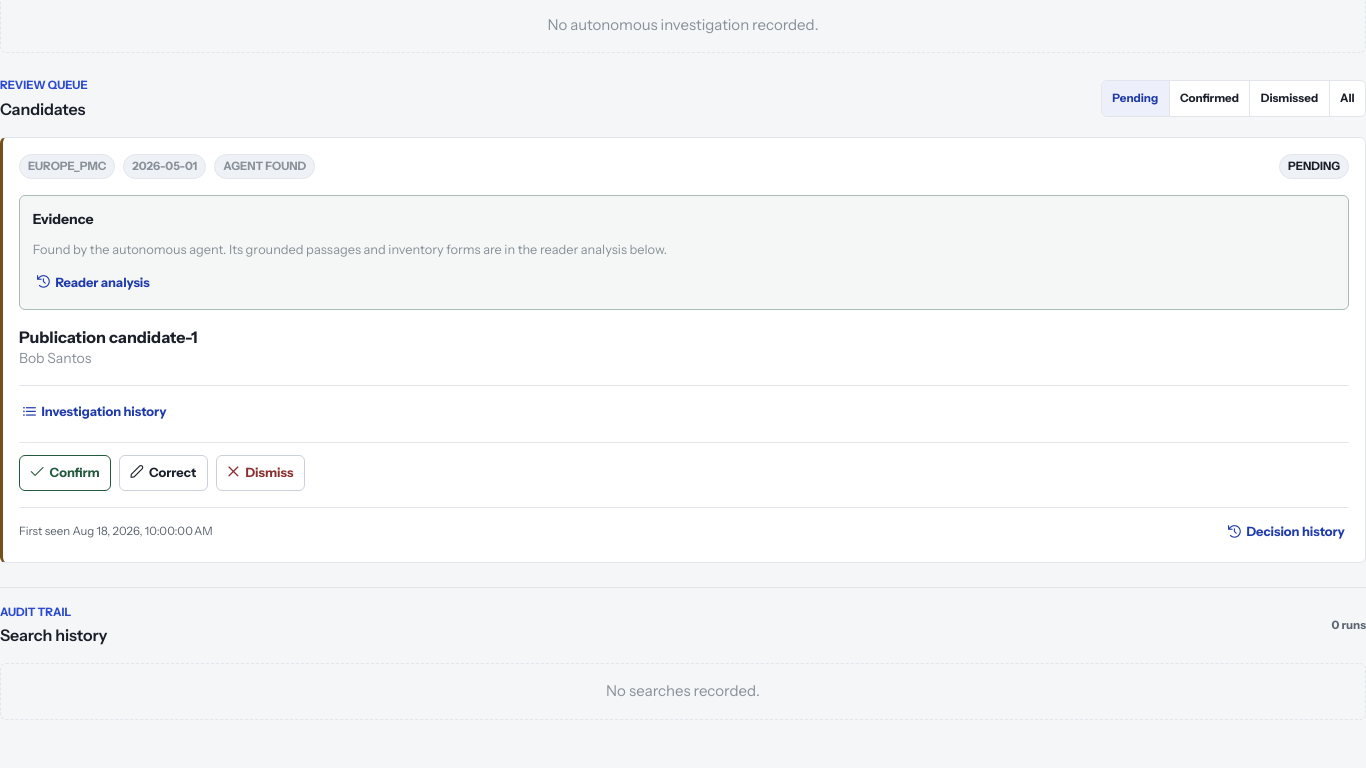
Test: ScientificReturnPanelComponent › opens each candidate history in its own dialog
(page scrolled)
Click the button "Investigation history": click(95, 412) [19,398,170,426]
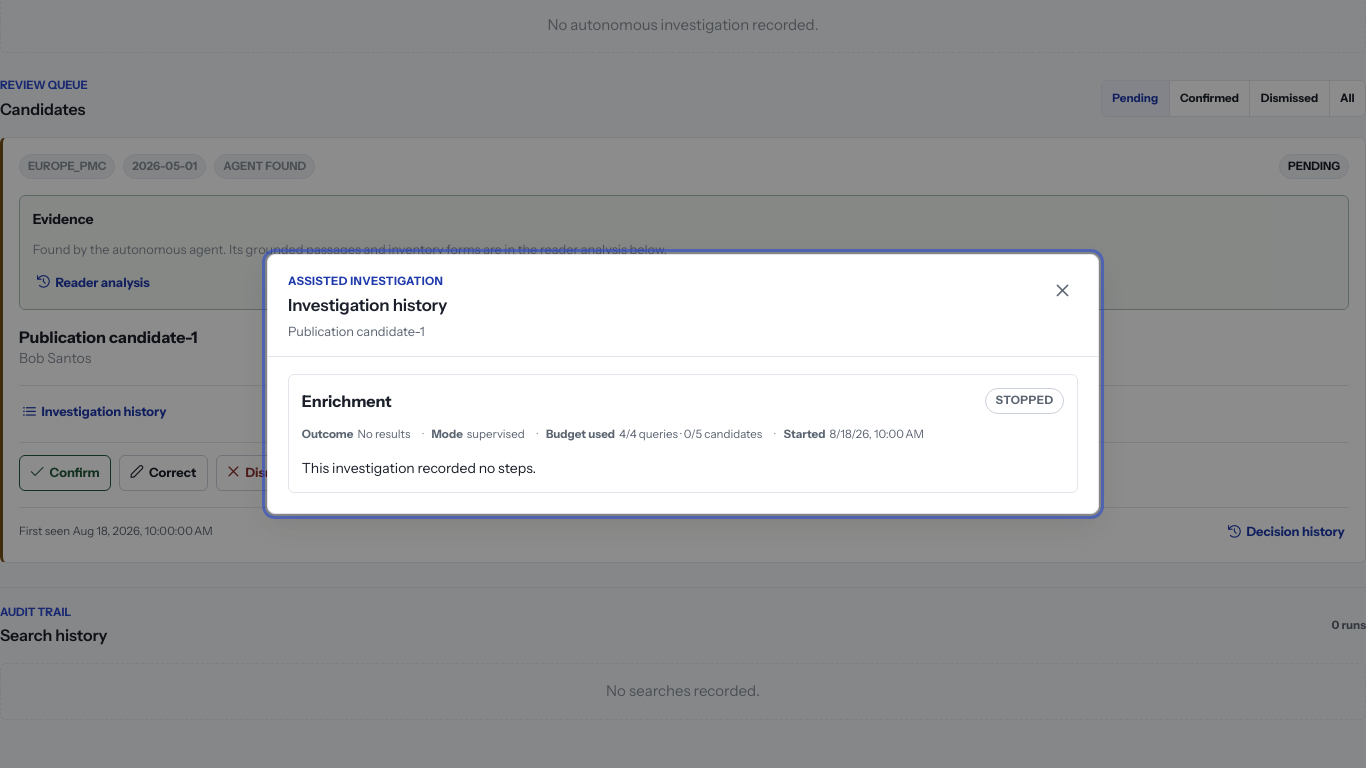
Check: the text "Publication candidate-1" is shown, box [19,327,197,347]
Check: the number of dialogs is 1, box [267,254,1099,514]
Check: the heading "Enrichment" is shown, box [302,389,392,413]
Click the 1st button named "Close investigation history": click(82, 384) [0,0,1365,767]
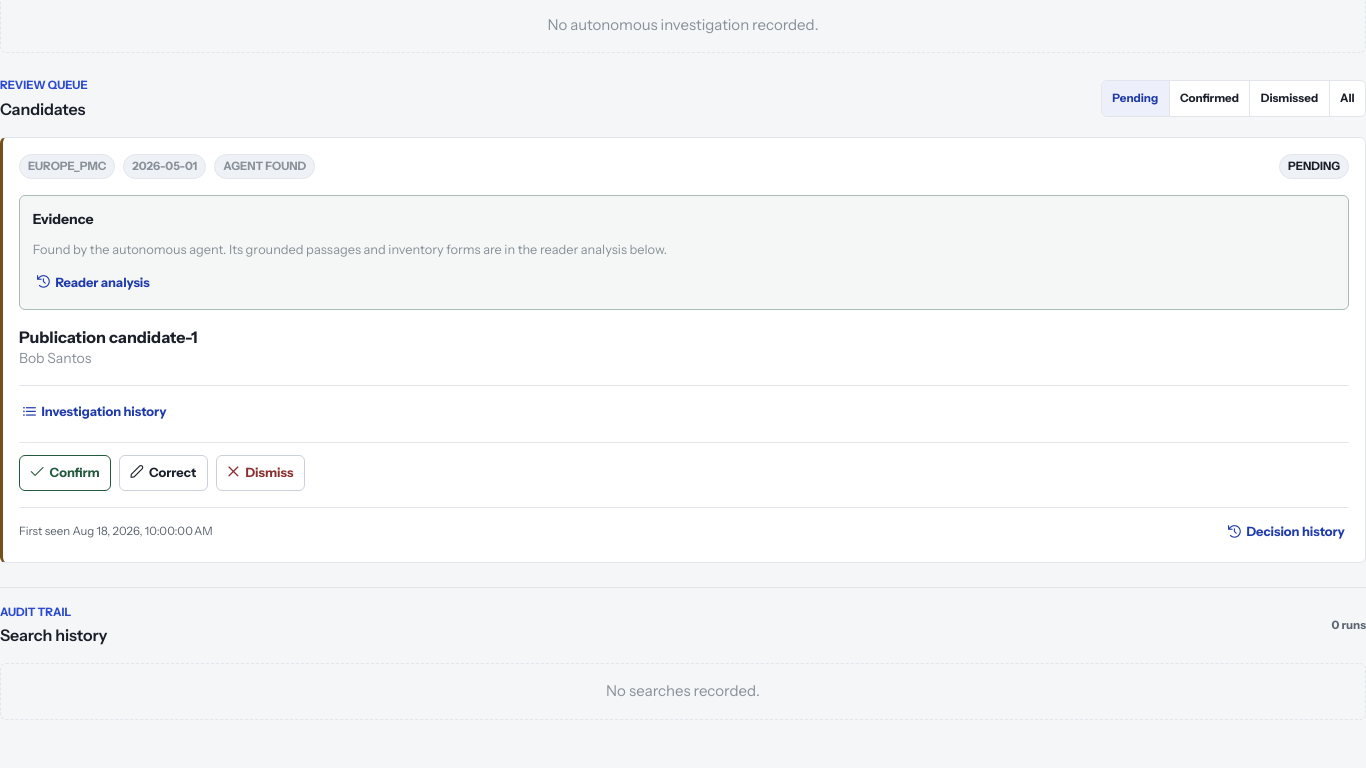
Check: no dialogs are shown
Click the button "Reader analysis": click(93, 282) [33,268,154,296]
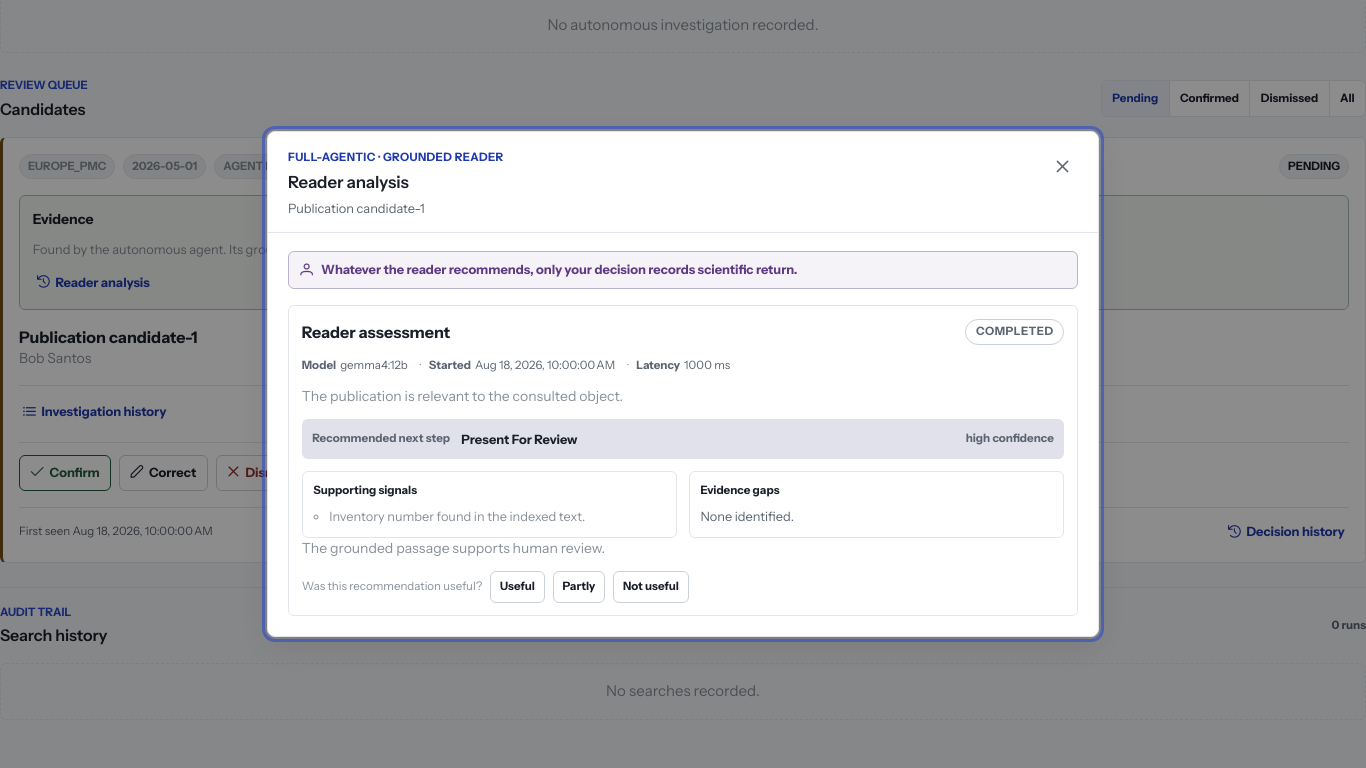
Check: the text "Reader analysis" is shown, box [33,242,667,257]
Check: the number of dialogs is 1, box [267,131,1099,637]
Check: the heading "Reader assessment" is shown, box [302,320,450,344]
Click the 1st button named "Close reader analysis": click(82, 384) [0,0,1365,767]
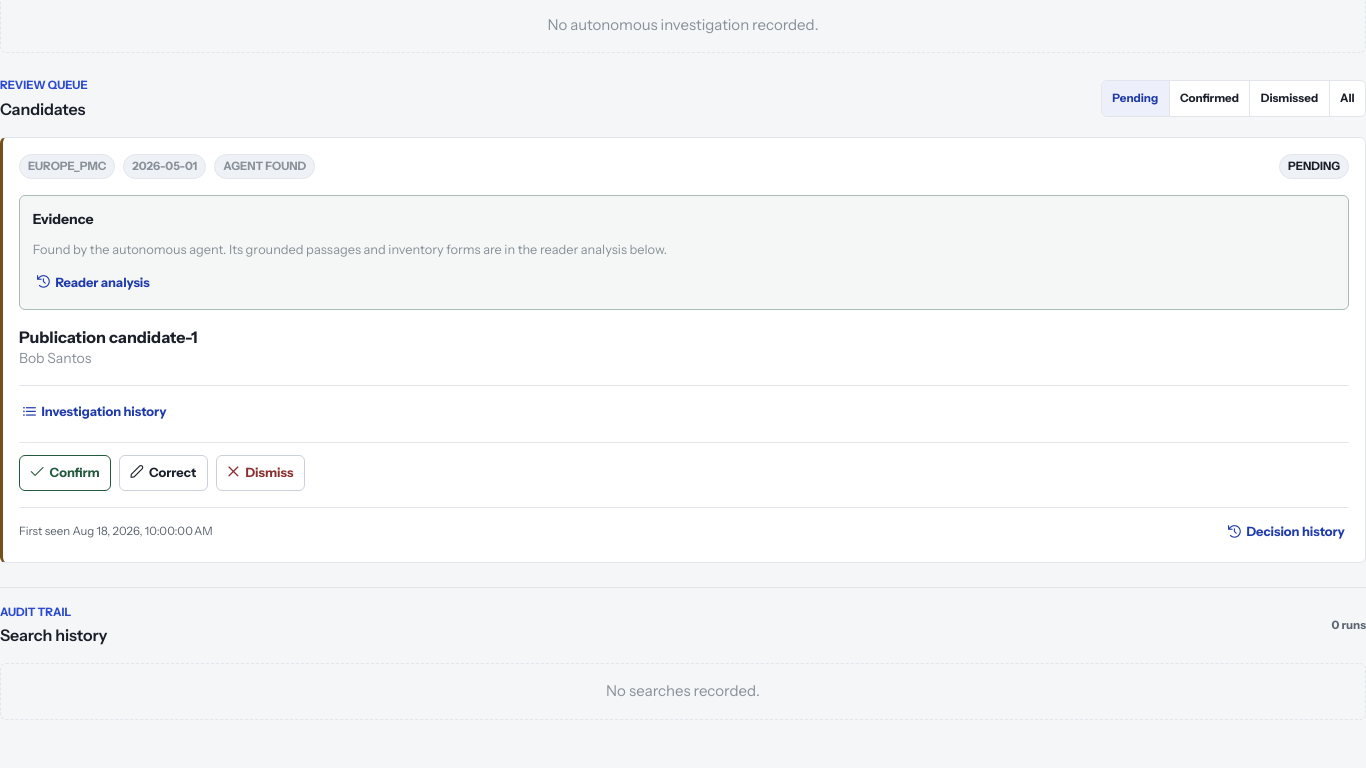
Check: no dialogs are shown
